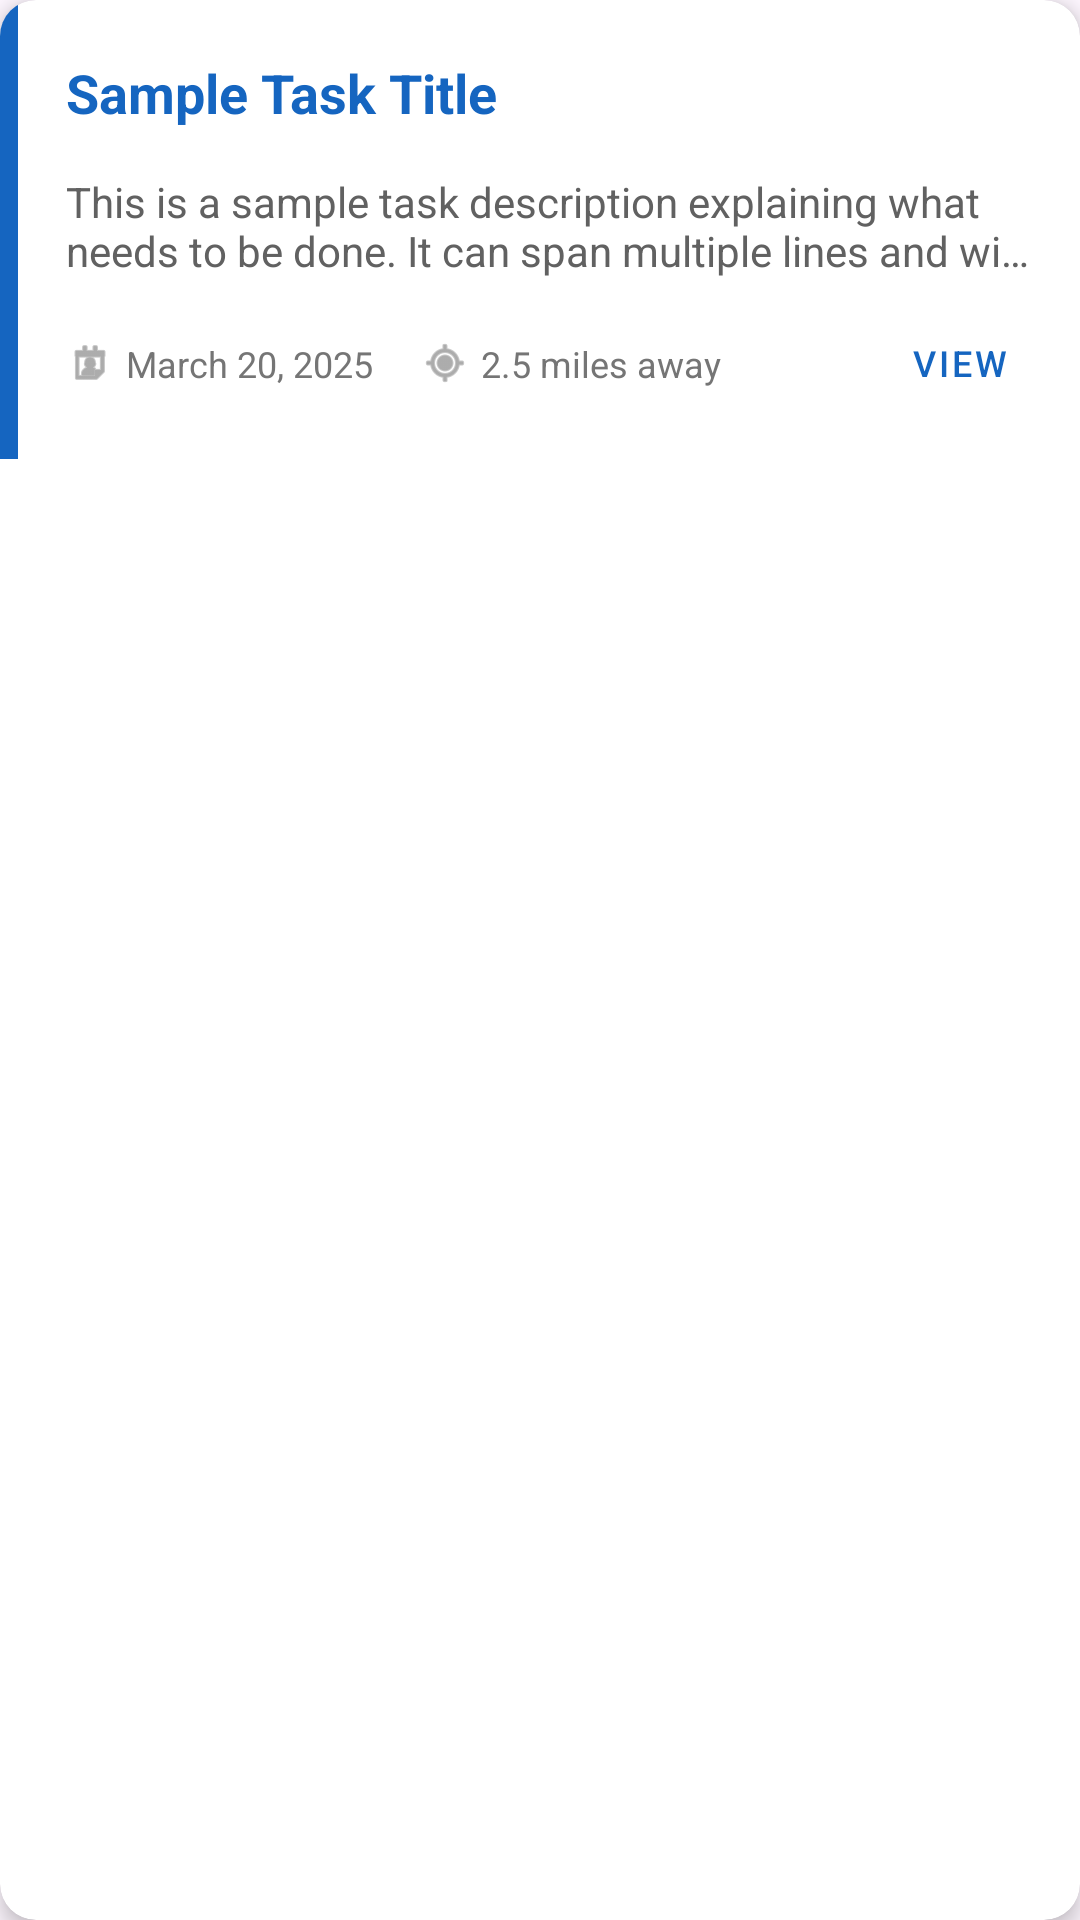

Screen size 1080px x 1920px. Icon name, then its center in pixels as (x=x, y=y):
Date: (x=90, y=362)
Location: (x=445, y=363)
